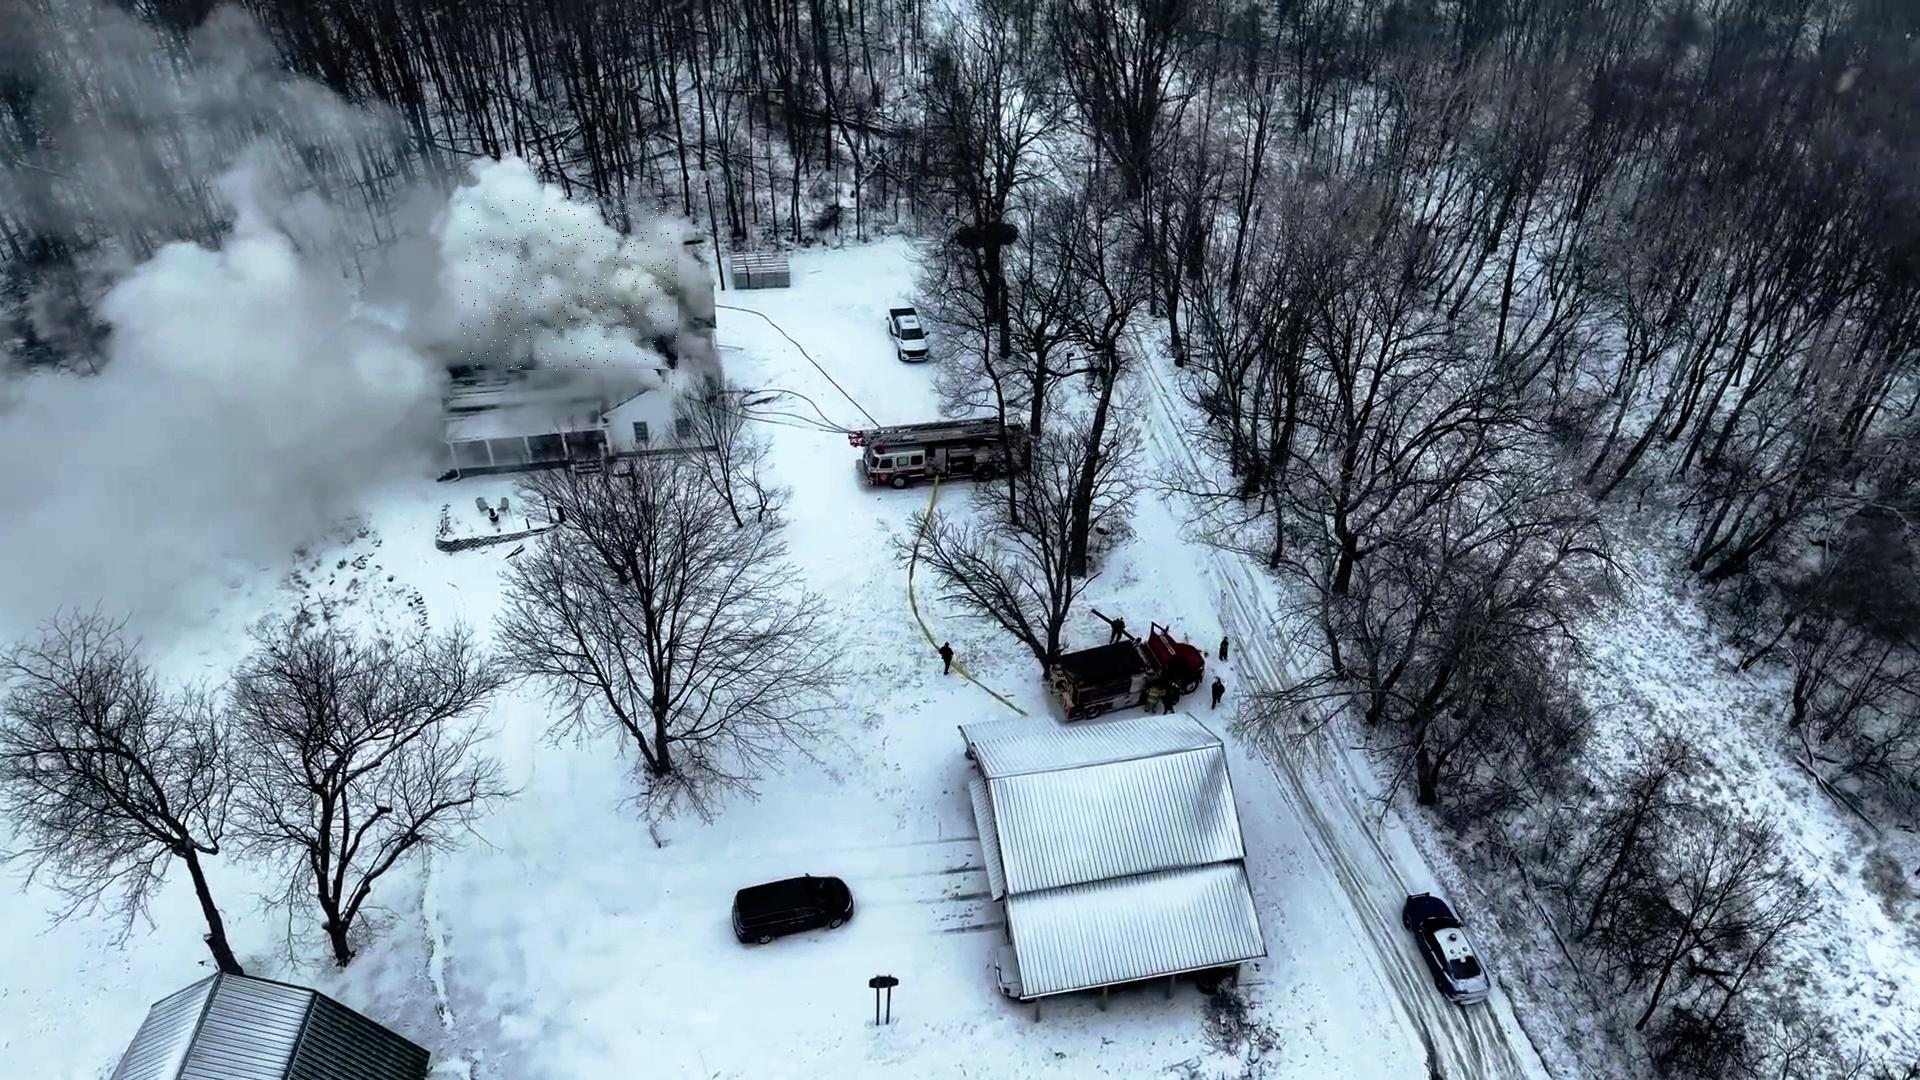smoke: (462, 196, 680, 371)
